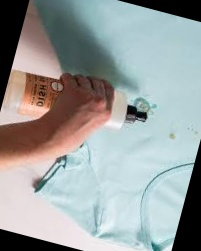oil: (134, 96, 159, 115), (186, 122, 201, 135), (163, 132, 177, 144)
